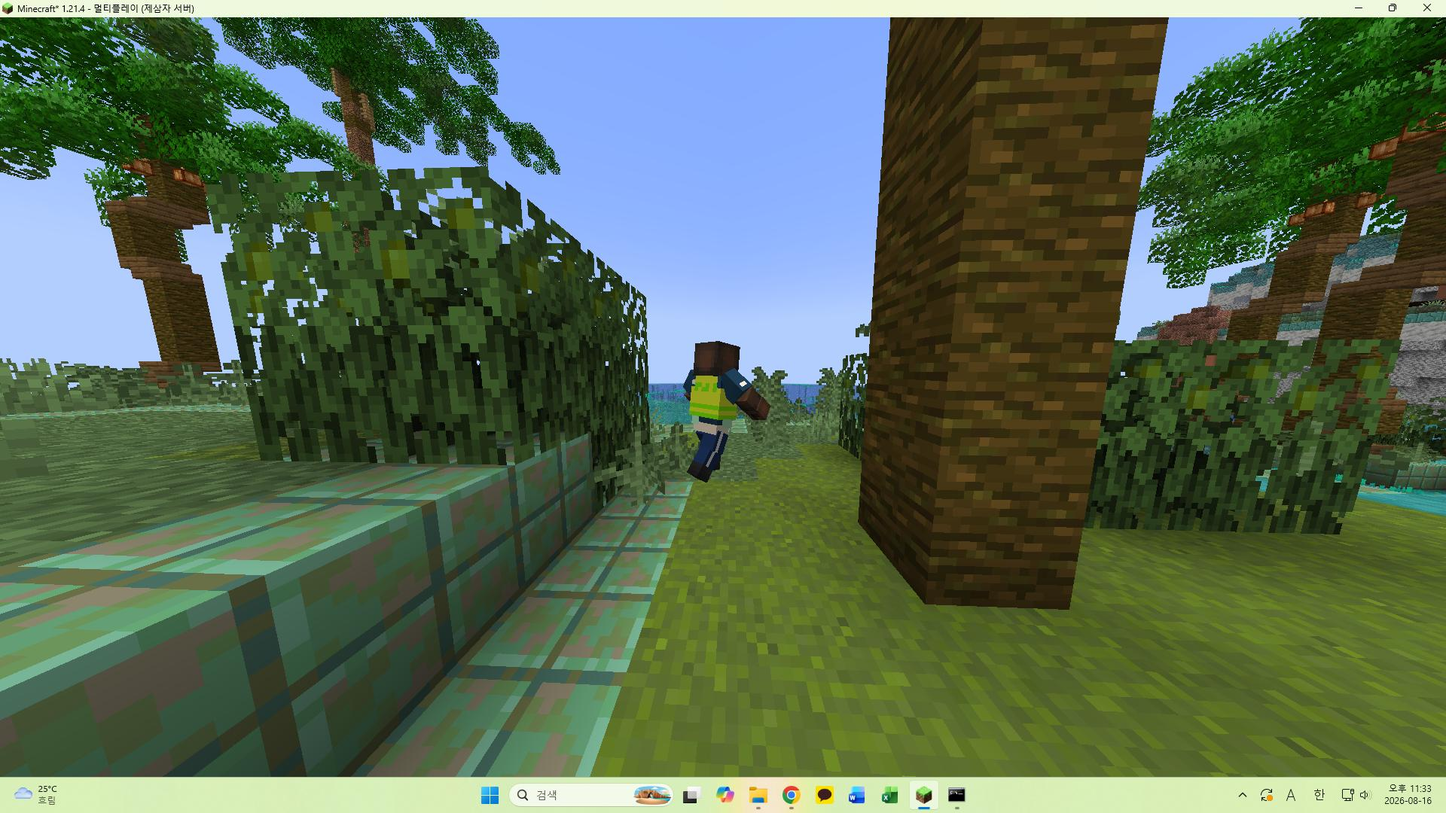Guardian: (685, 343, 770, 482)
